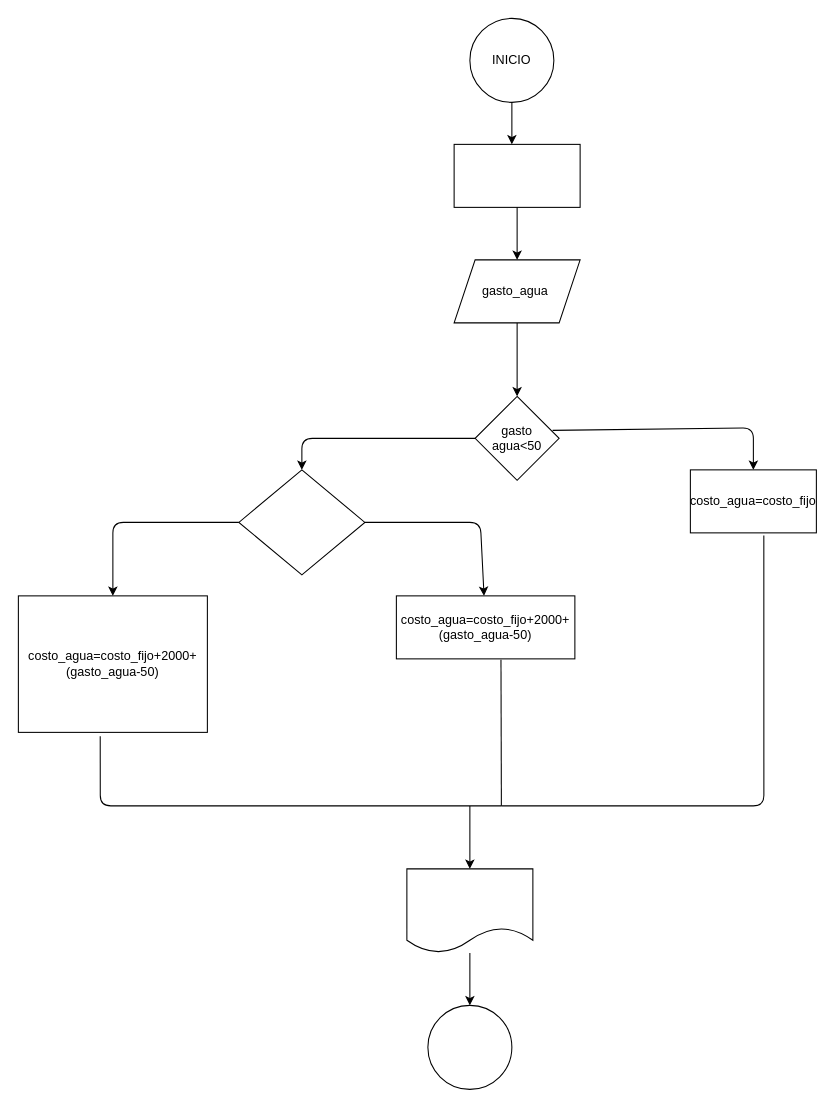
Image size: 835x1108. Some labels were removed from this diagram. Here are the shapes that lost their labels. From the top down, the box of each, then its label:
(453, 143, 580, 207): costo_fijo=1000
(238, 469, 365, 575): gasto_agua<=200
(406, 868, 533, 953): costo_agua
